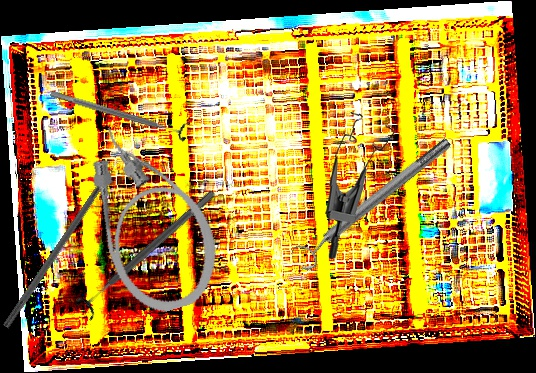Cannula: (74, 107, 231, 323)
Fixation Ring: (287, 130, 459, 275), (71, 181, 224, 323), (47, 82, 191, 144)
Hook Surgical: (2, 157, 124, 330)
Speculum: (321, 110, 400, 260)
